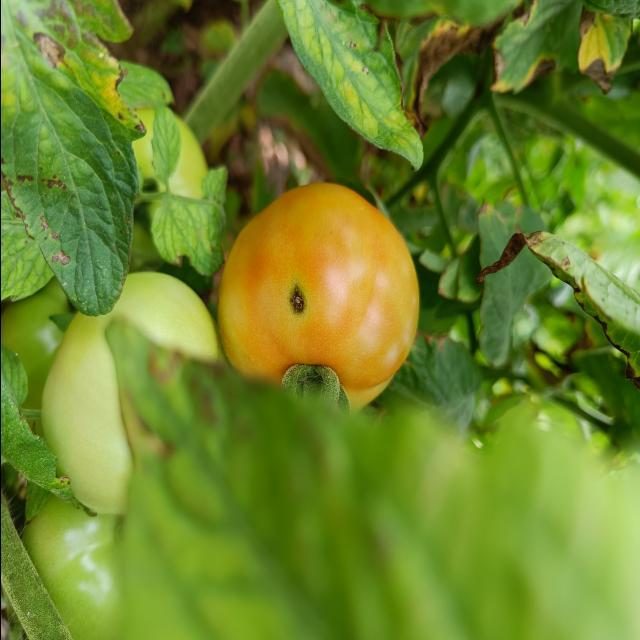Tomato mosaic virus leaf: (0, 100, 153, 321)
